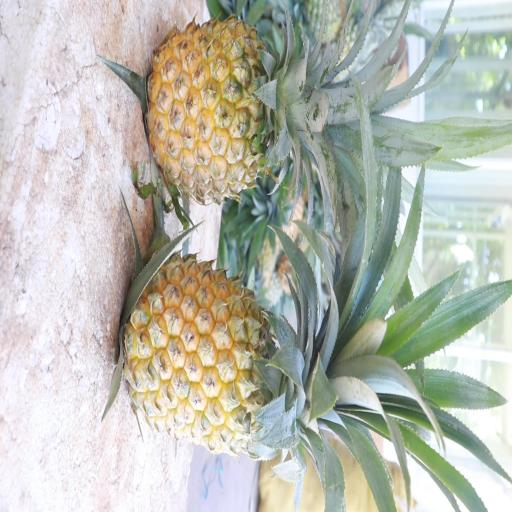Pineapple - v8 v1: (120, 251, 372, 462), (145, 11, 350, 208)
